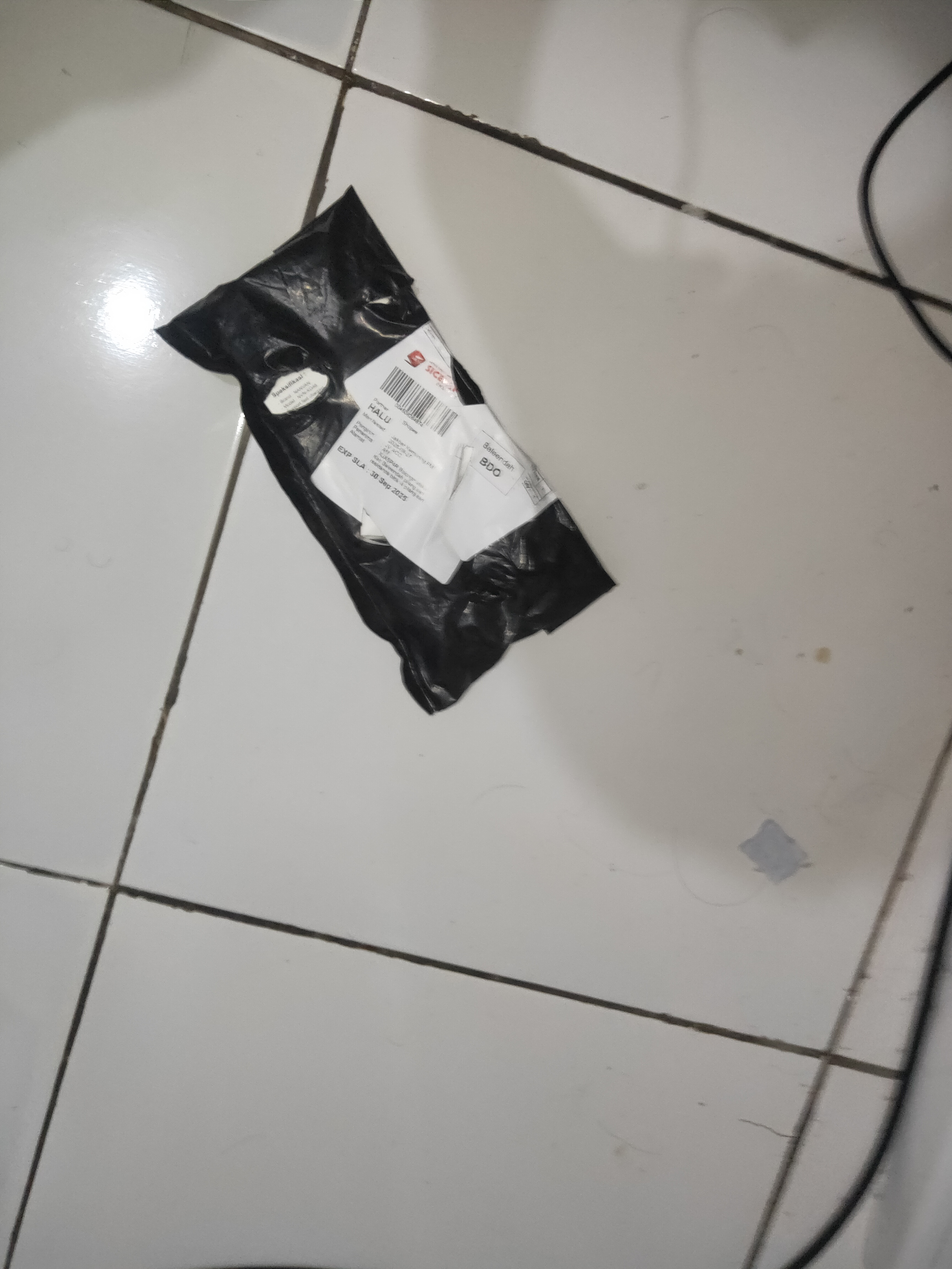damaged package: (256, 362, 333, 419), (449, 354, 484, 409), (446, 445, 479, 501), (353, 504, 395, 546), (471, 579, 510, 610), (366, 288, 407, 310)
undamaged: (151, 183, 613, 714)
